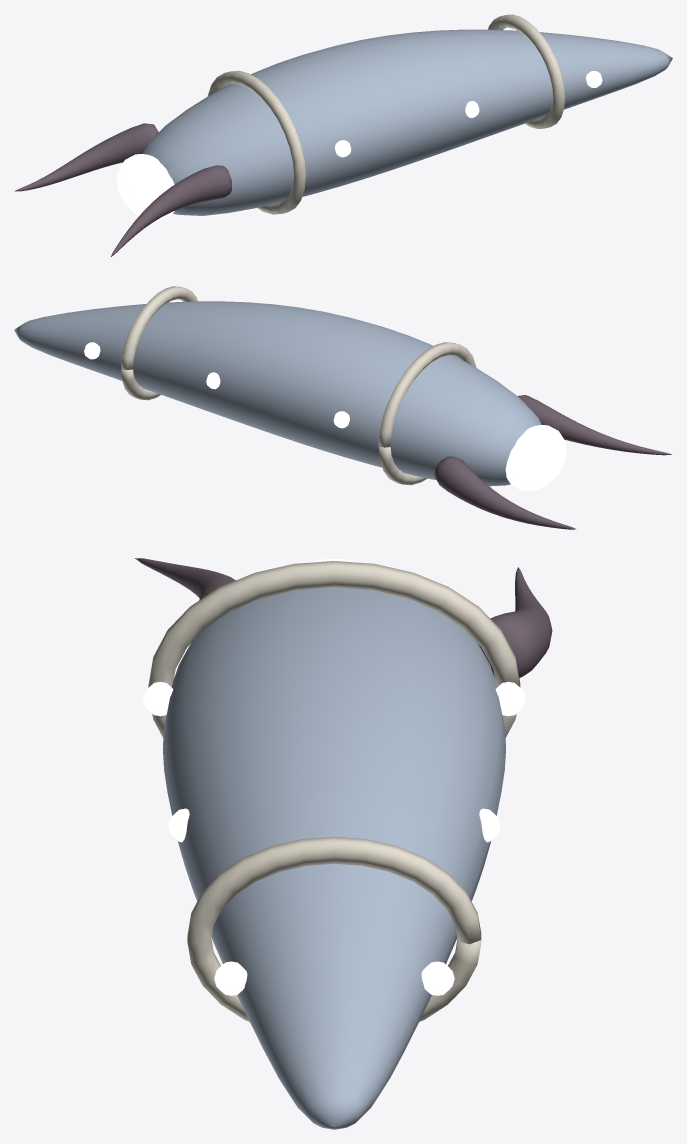
File: organic_small.glb
3 renders of one model, top to bottom at view 1: azimuth 30°, elevation 25°; view 2: azimuth 150°, elevation 25°; view 3: azimuth 270°, elevation 25°, orthographic. The views are drawn at different scales.
Parts seen in each view (by area): view 1: organic_small; view 2: organic_small; view 3: organic_small.
Part boxes in pixels (left/top/right/bottom): organic_small: left=14, top=14, right=672, bottom=256; organic_small: left=14, top=286, right=671, bottom=529; organic_small: left=135, top=558, right=552, bottom=1129.
Bounding box in the file's own units: 1 × 0.1976 × 0.2971.
